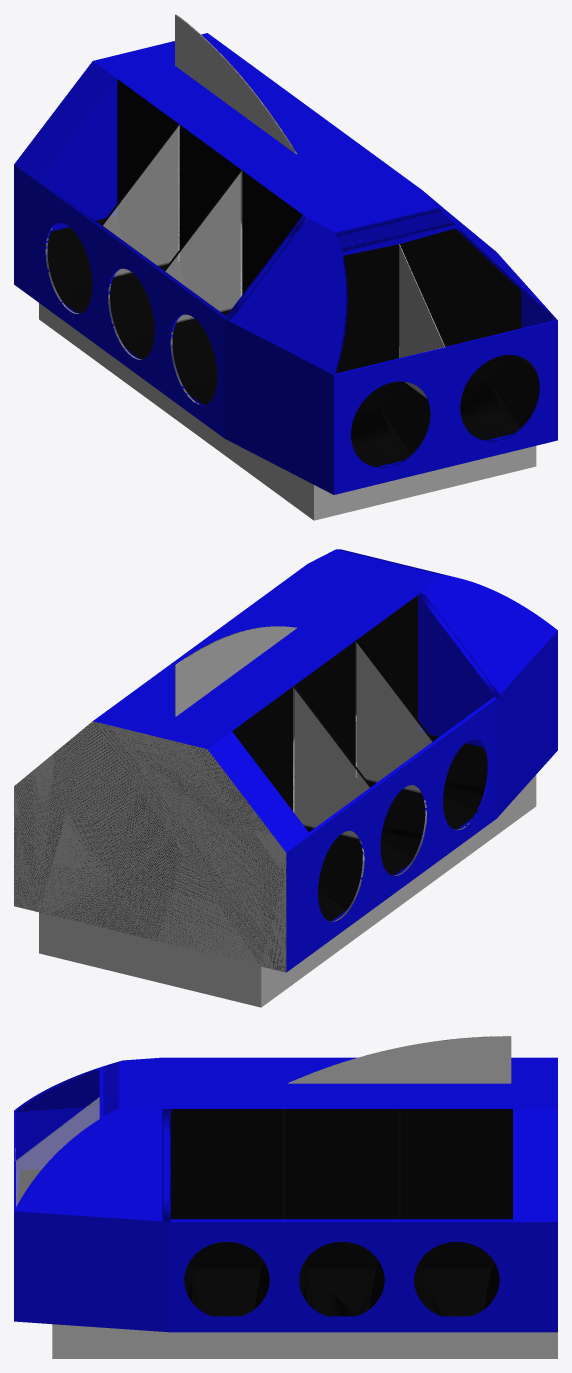
The model's file is 2019 field - CargoShip.gltf.
3 renders of one model, top to bottom at view 1: azimuth 30°, elevation 25°; view 2: azimuth 150°, elevation 25°; view 3: azimuth 270°, elevation 25°, orthographic. The views are drawn at different scales.
Visible parts, largest first — view 1: CargoShip; view 2: CargoShip; view 3: CargoShip.
Boxes of the visible parts, x1,y1,x2,y2 form: CargoShip: (14, 14, 557, 520); CargoShip: (14, 549, 557, 1007); CargoShip: (14, 1036, 557, 1358).
Bounding box in the file's own units: 1.42 × 1.47 × 2.66.
